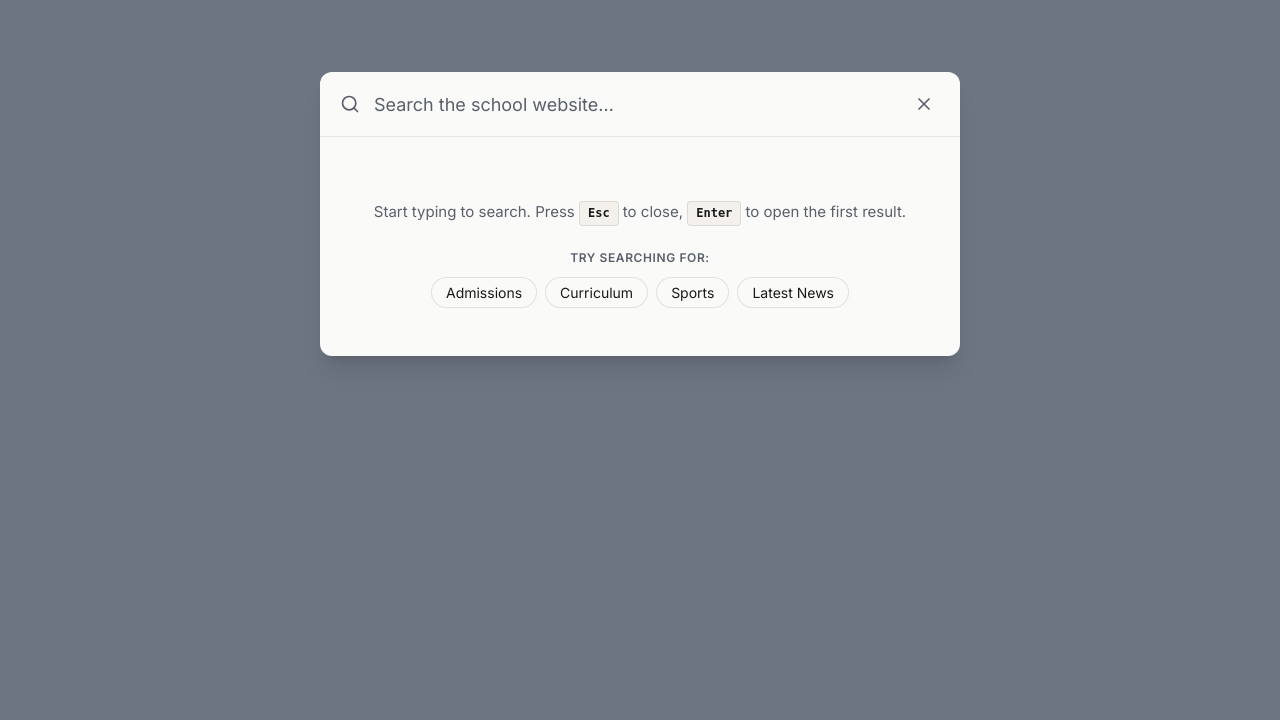
Test case: SearchOverlay › renders search results when pagefind returns matches
Type "about" into the field named "search query" at coordinates (634, 104), box [372,90,896,118]
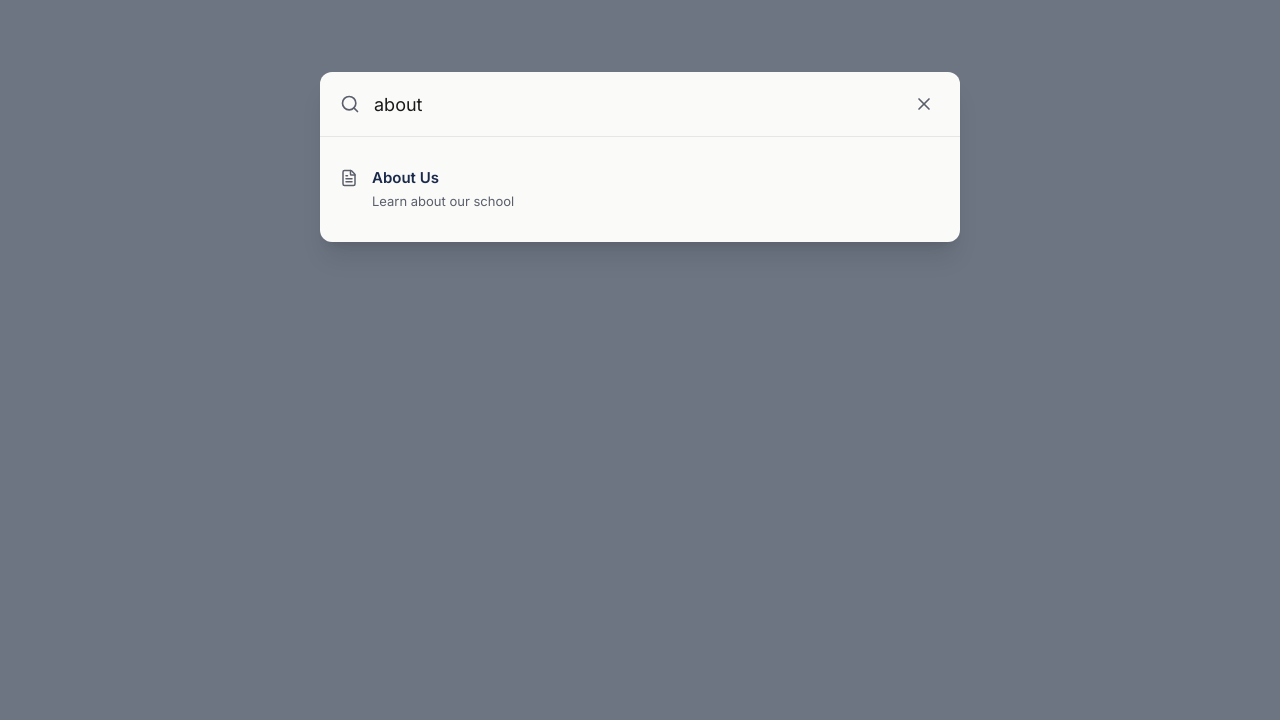
Result: the list is shown at [340,168,514,209]
Result: the list shows "About Us" at [320,153,960,226]
